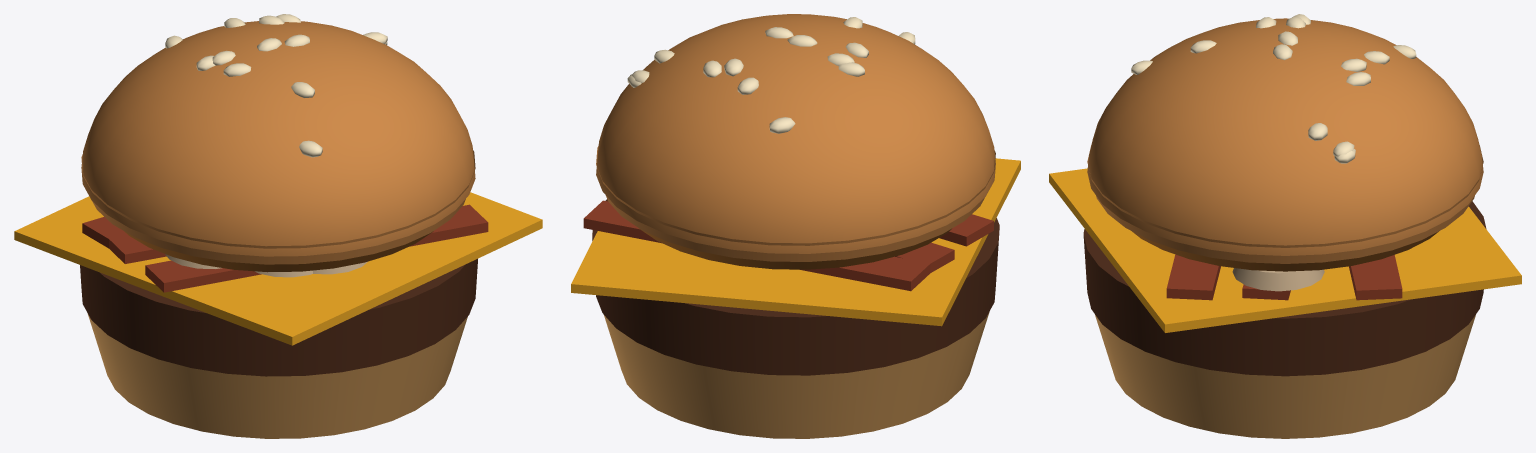
Rendered from burger-res-champi.glb.
The picture shows the model from 3 angles, left to right: view 1: azimuth 30°, elevation 25°; view 2: azimuth 150°, elevation 25°; view 3: azimuth 270°, elevation 25°; orthographic projection.
Size of the model in its own units: 0.1593 by 0.122 by 0.1593.
